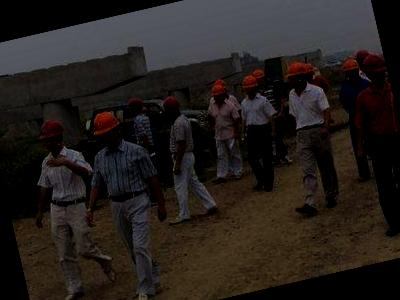helmet: (30, 113, 71, 146), (86, 108, 121, 136), (358, 52, 388, 80), (282, 59, 312, 82), (157, 92, 185, 116), (206, 80, 231, 102), (237, 73, 258, 90), (340, 55, 358, 74)
no_vest: (87, 136, 157, 202), (27, 147, 92, 211), (354, 80, 400, 141), (283, 82, 332, 136), (158, 110, 199, 158), (204, 97, 243, 144), (128, 112, 160, 160), (238, 96, 274, 132)
person: (80, 103, 184, 300), (19, 112, 120, 300), (259, 57, 355, 218), (335, 39, 400, 231), (143, 89, 216, 226), (225, 72, 288, 202), (190, 80, 252, 187)
